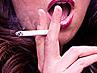smoke: (12, 28, 46, 36)
